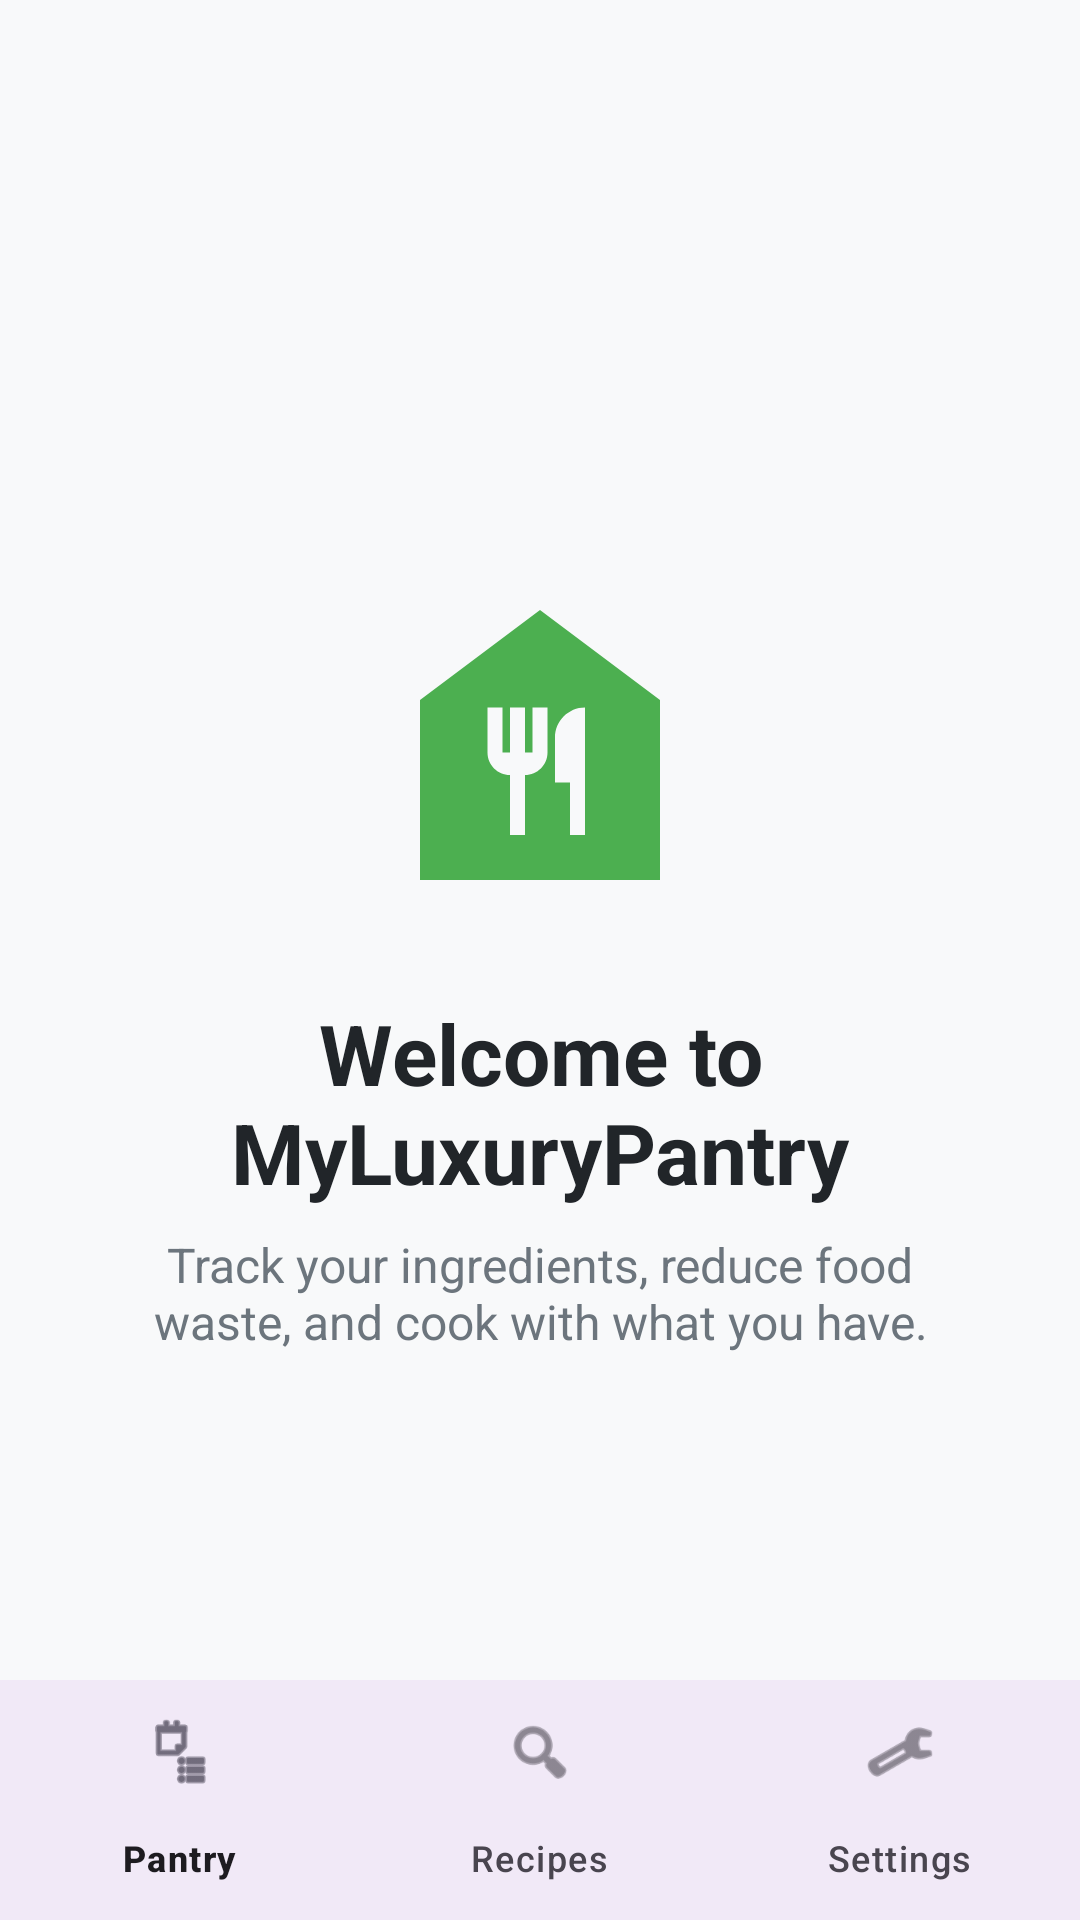

Icons on this 1080 × 1920 Android screen, each with the point to tap as (x=x, y=y):
food bank: (x=540, y=745)
